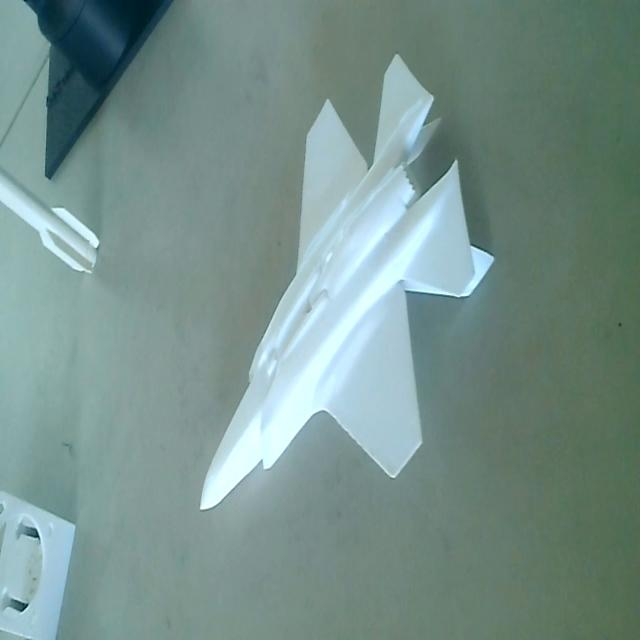Jet: (198, 52, 497, 518)
Rocket: (0, 160, 103, 284)
